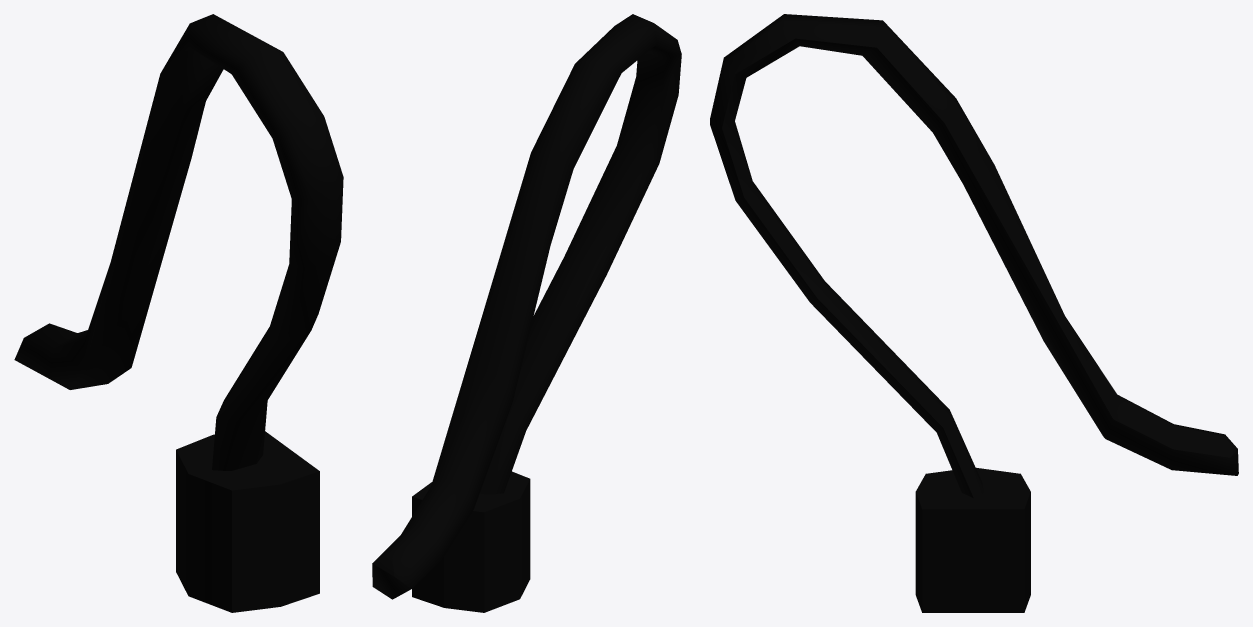
File: powercord1_lod1.fbx
3 views of the same model, side by side, from view 1: azimuth 30°, elevation 25°; view 2: azimuth 150°, elevation 25°; view 3: azimuth 270°, elevation 25° (orthographic). The views are drawn at different scales.
Parts seen in each view (by area): view 1: cord4, plug4; view 2: cord4, plug4; view 3: cord4, plug4.
Part boxes in pixels (box(x1,y1,x2,y2)): cord4: box(14, 14, 343, 470); plug4: box(176, 431, 319, 612); cord4: box(372, 14, 681, 599); plug4: box(412, 471, 530, 612); cord4: box(710, 14, 1238, 498); plug4: box(915, 467, 1030, 612).
Size of the model in its own units: 0.1712 by 0.6389 by 0.5671.
